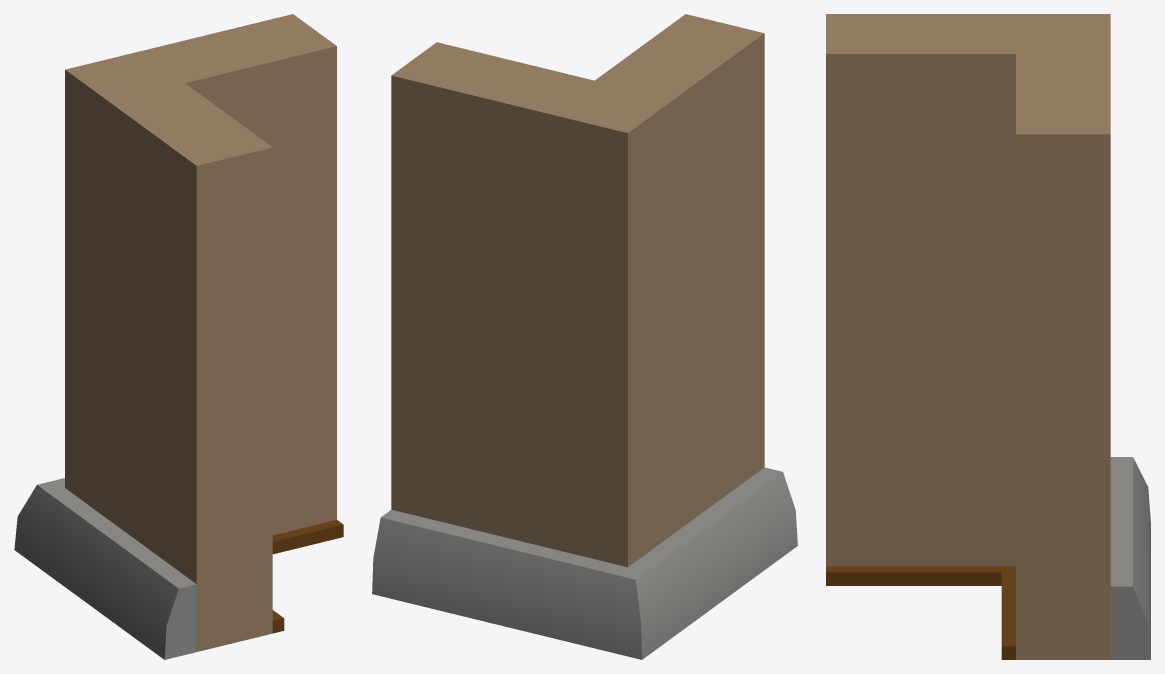
The model's file is SM_Wall_Corner_Outer_NoTop.fbx.
3 views of the same model, side by side, from view 1: azimuth 30°, elevation 25°; view 2: azimuth 150°, elevation 25°; view 3: azimuth 270°, elevation 25° (orthographic). The views are drawn at different scales.
Parts seen in each view (by area): view 1: SM_Wall_Corner_Outer_NoTop; view 2: SM_Wall_Corner_Outer_NoTop; view 3: SM_Wall_Corner_Outer_NoTop.
Boxes of the visible parts, left/top/right/bottom form: SM_Wall_Corner_Outer_NoTop: left=14, top=14, right=343, bottom=659; SM_Wall_Corner_Outer_NoTop: left=372, top=14, right=797, bottom=659; SM_Wall_Corner_Outer_NoTop: left=826, top=14, right=1150, bottom=659.
Bounding box in the file's own units: 171 × 306 × 171.
